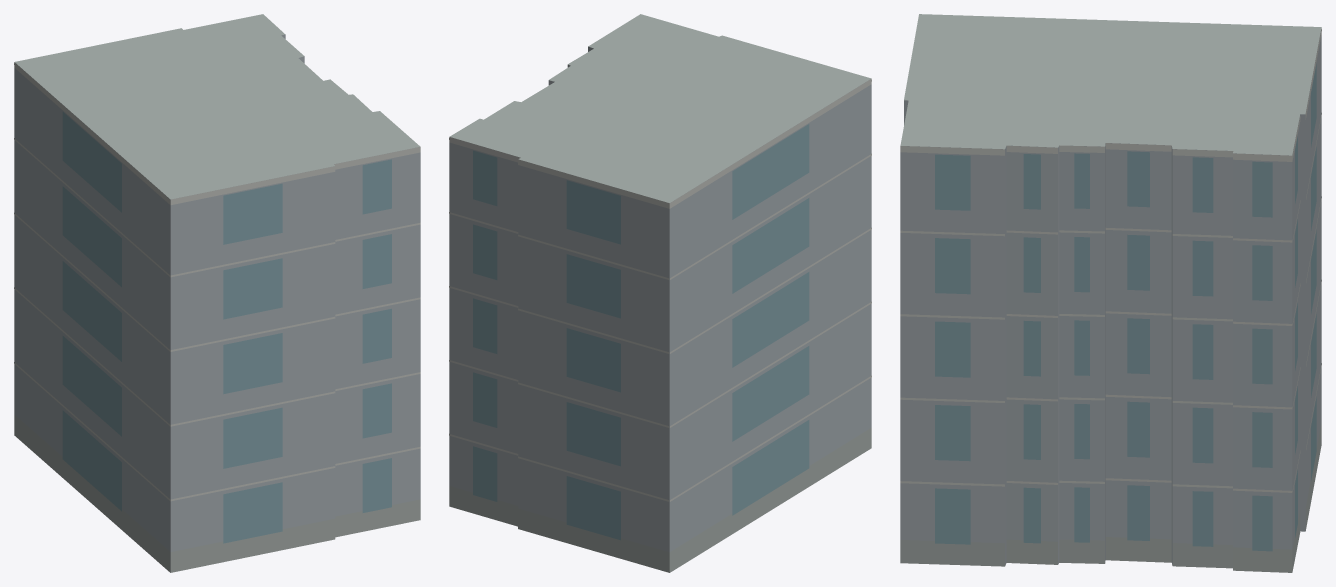
The model's file is survey-upis-32990516.glb.
The picture shows the model from 3 angles, left to right: view 1: azimuth 30°, elevation 25°; view 2: azimuth 150°, elevation 25°; view 3: azimuth 270°, elevation 25°; orthographic projection. The views are drawn at different scales.
Visible parts, largest first — view 1: survey-upis-32990516.tmp; view 2: survey-upis-32990516.tmp; view 3: survey-upis-32990516.tmp.
Part boxes in pixels (x1,y1,x2,y2): survey-upis-32990516.tmp: (14, 14, 420, 572); survey-upis-32990516.tmp: (449, 14, 871, 572); survey-upis-32990516.tmp: (900, 14, 1321, 572).
Bounding box in the file's own units: 11.52 × 15.8 × 14.48.
